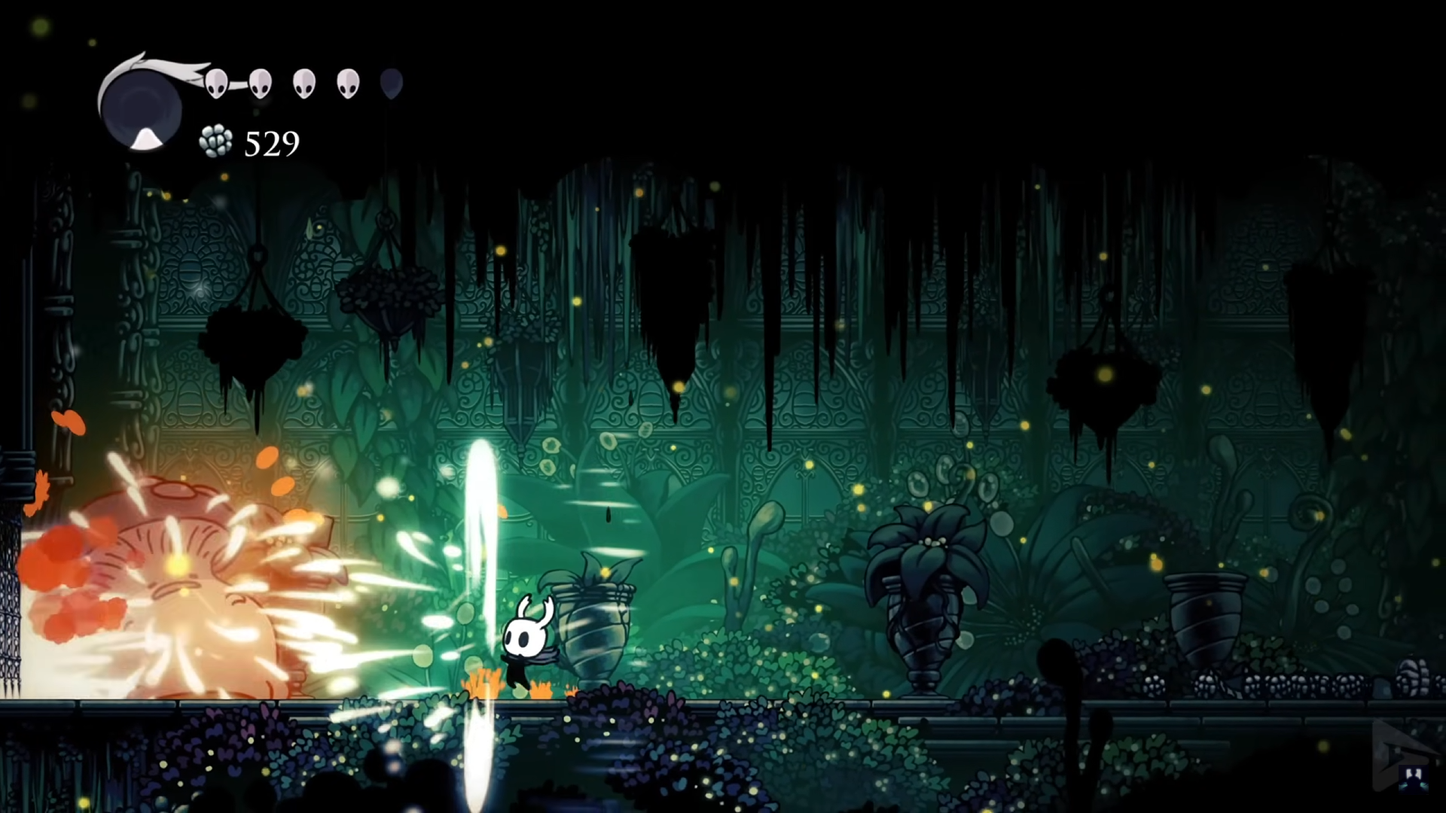HK: (489, 586, 558, 699)
